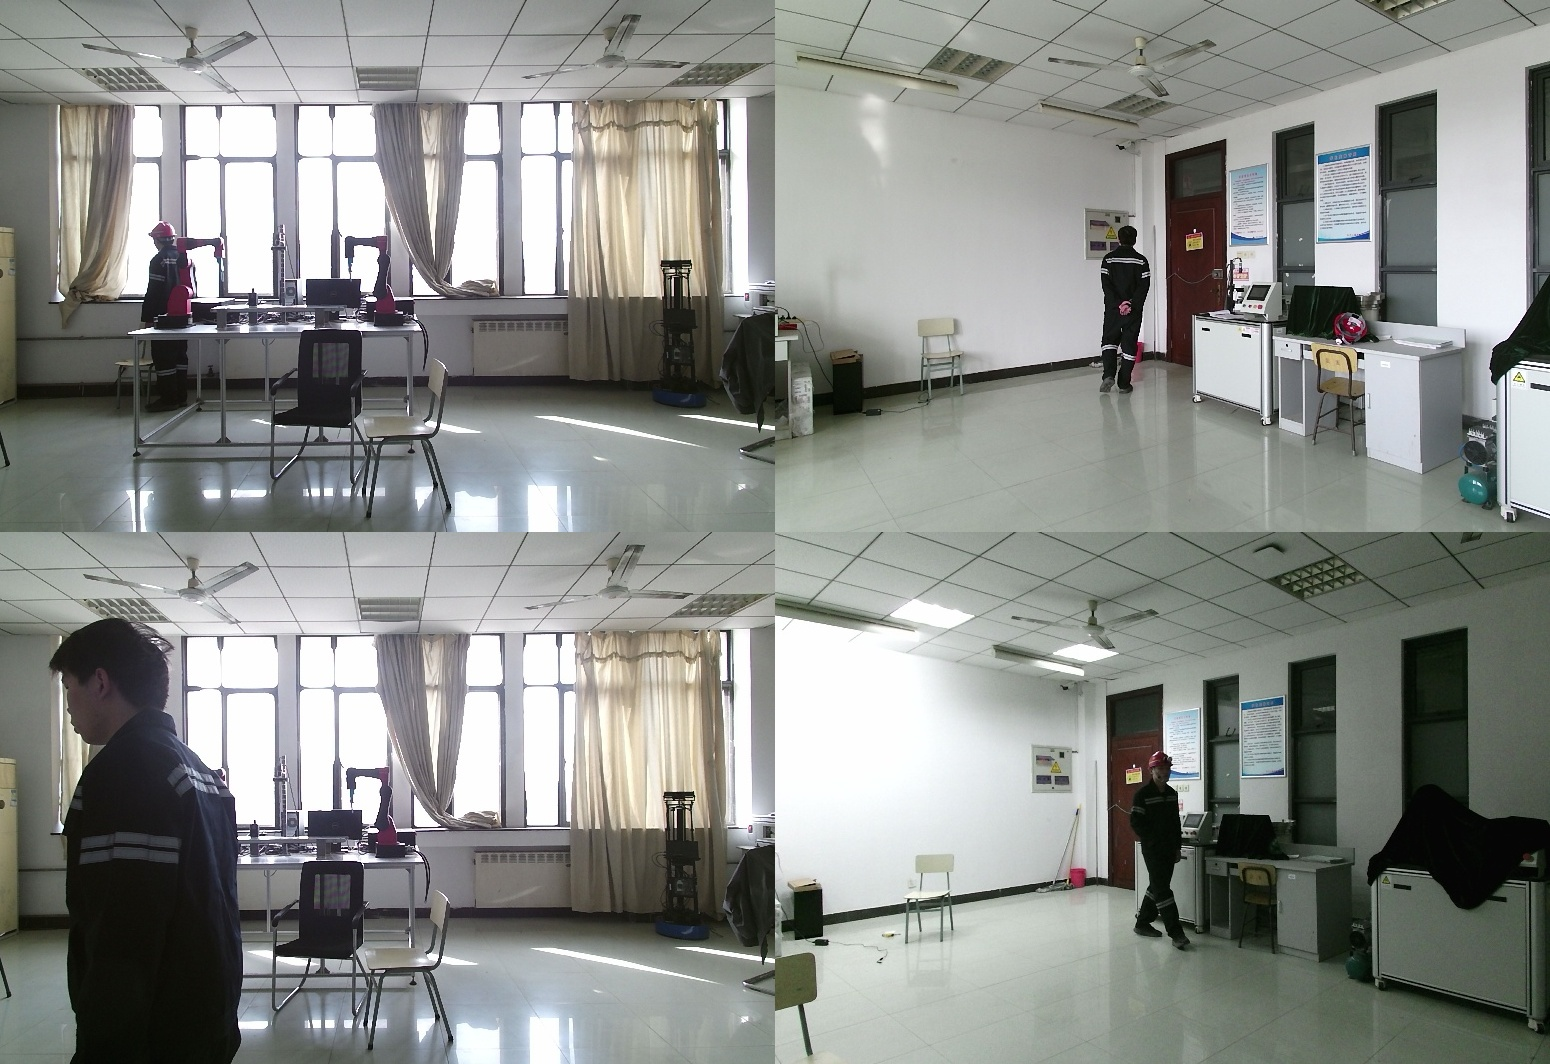person: (44, 617, 254, 1064), (1121, 751, 1189, 948), (1093, 226, 1154, 401), (140, 222, 190, 423)
